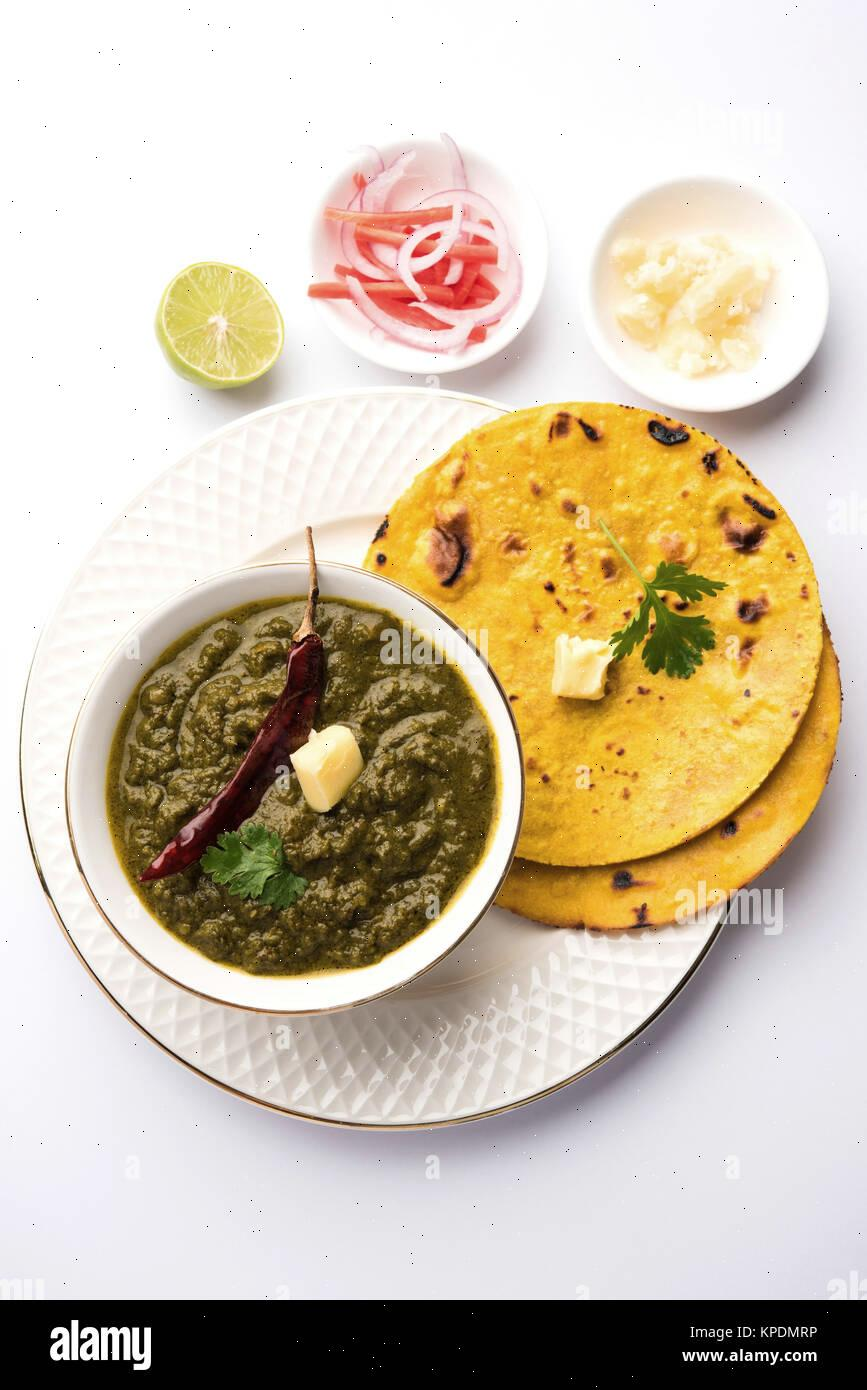saag: (107, 601, 482, 975)
